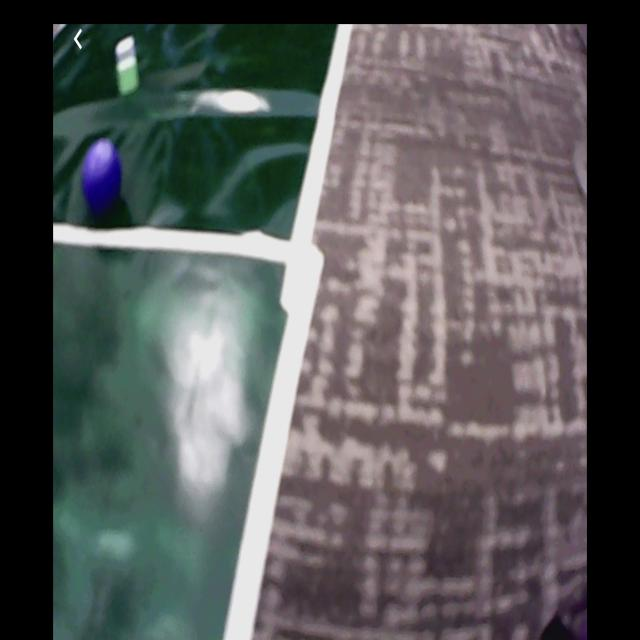ball: (84, 140, 123, 209)
